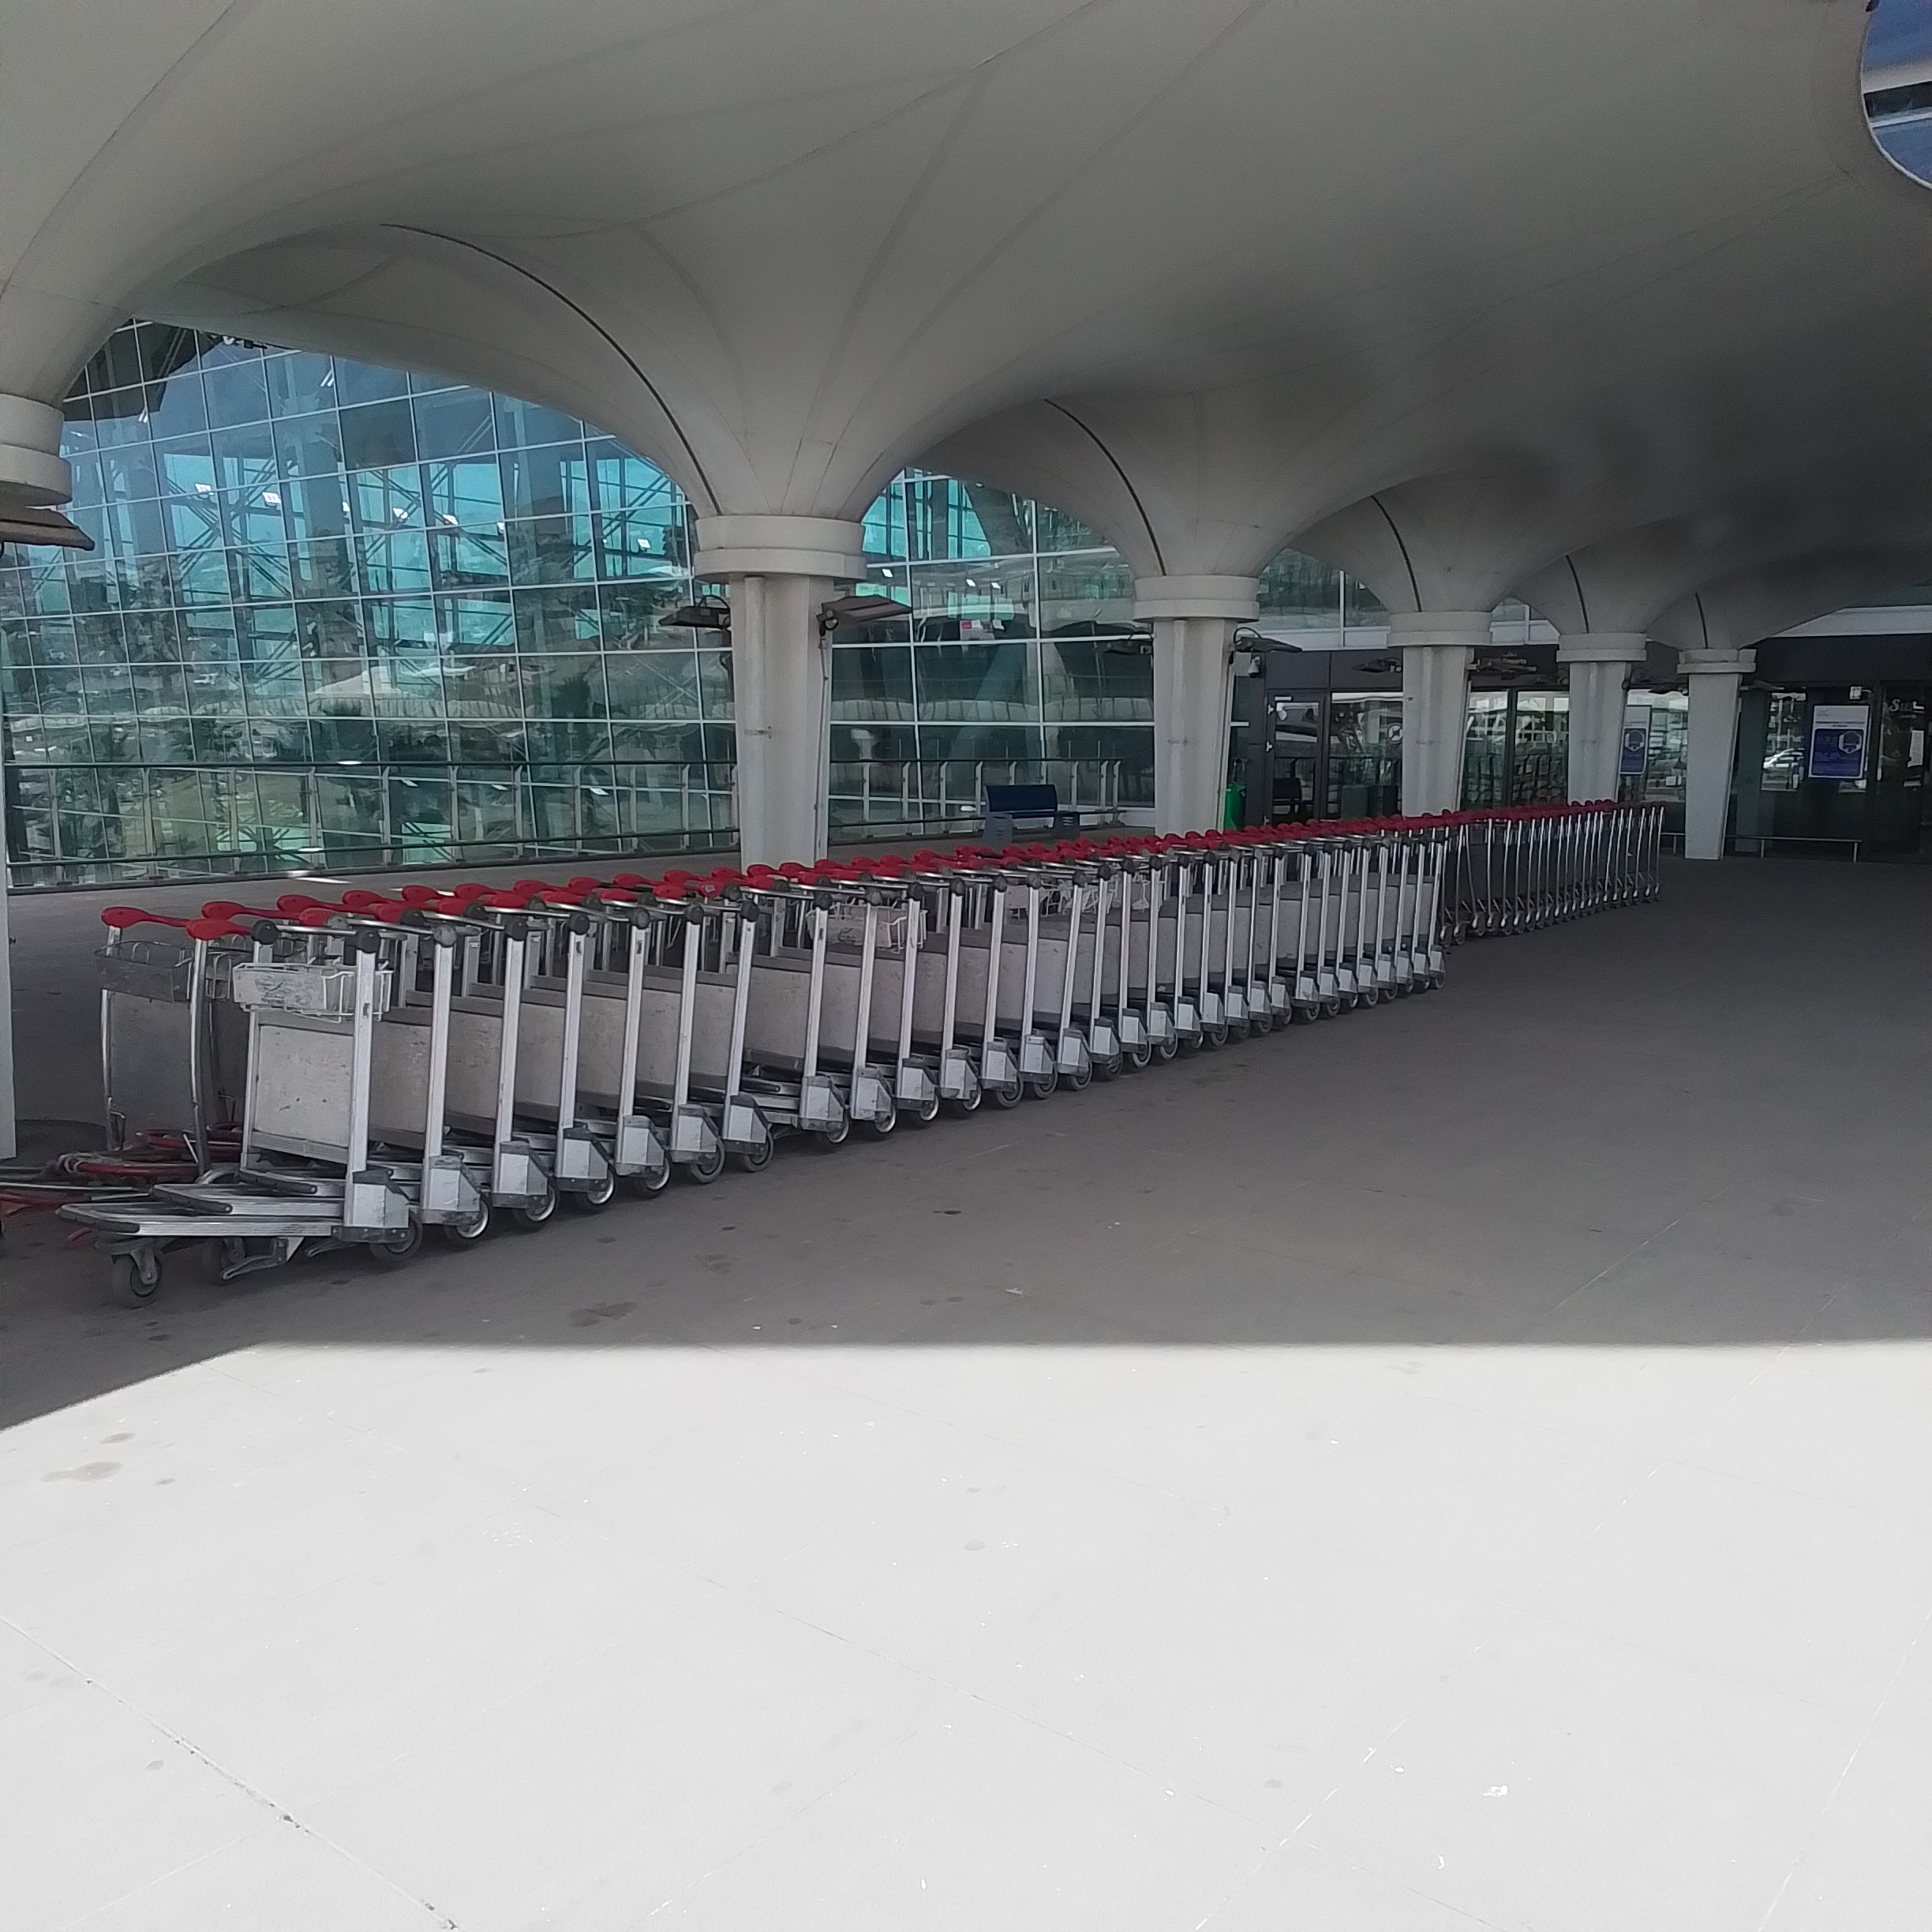airport-trolley: (65, 908, 391, 1307), (0, 906, 237, 1238), (349, 922, 481, 1260), (433, 913, 550, 1233), (575, 890, 672, 1201), (529, 908, 614, 1221), (770, 842, 847, 1162), (977, 809, 1054, 1115), (701, 881, 770, 1189), (920, 826, 989, 1123), (1067, 800, 1129, 1085), (1123, 821, 1189, 1081), (860, 826, 916, 1115)
